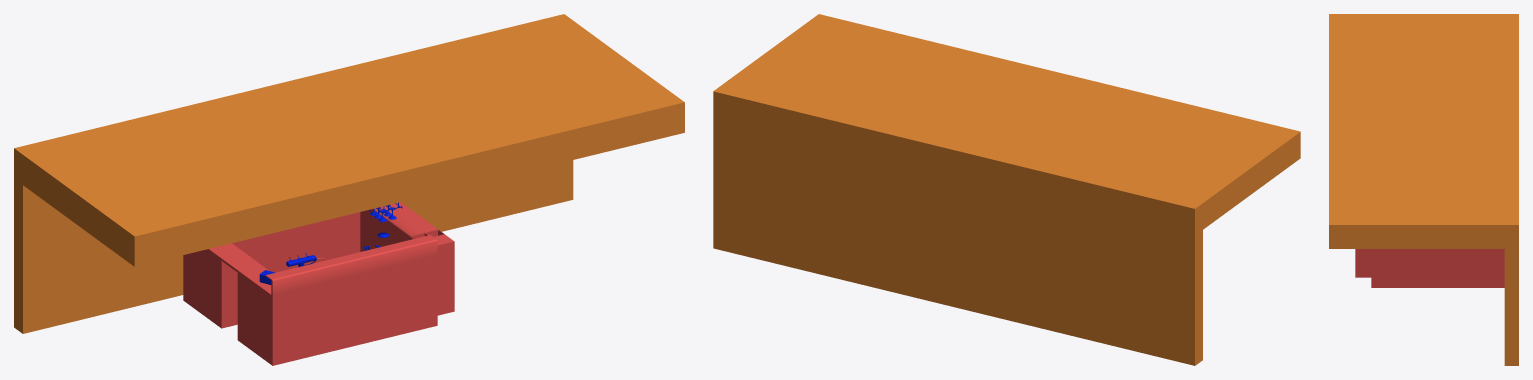
File: Bar Final.fbx
The picture shows the model from 3 angles, left to right: view 1: azimuth 30°, elevation 25°; view 2: azimuth 150°, elevation 25°; view 3: azimuth 270°, elevation 25°; orthographic projection. The views are drawn at different scales.
Visible parts, largest first — view 1: Bar Roof, Bar Front, Bar Back; view 2: Bar Roof; view 3: Bar Roof, Bar Front.
Boxes of the visible parts, box(x1,y1,x2,y2) form: Bar Roof: box(14, 14, 684, 333); Bar Front: box(183, 202, 454, 365); Bar Back: box(232, 212, 360, 272); Bar Roof: box(713, 14, 1300, 365); Bar Roof: box(1329, 14, 1518, 365); Bar Front: box(1355, 249, 1504, 287).
Size of the model in its own units: 927 by 352 by 289.
